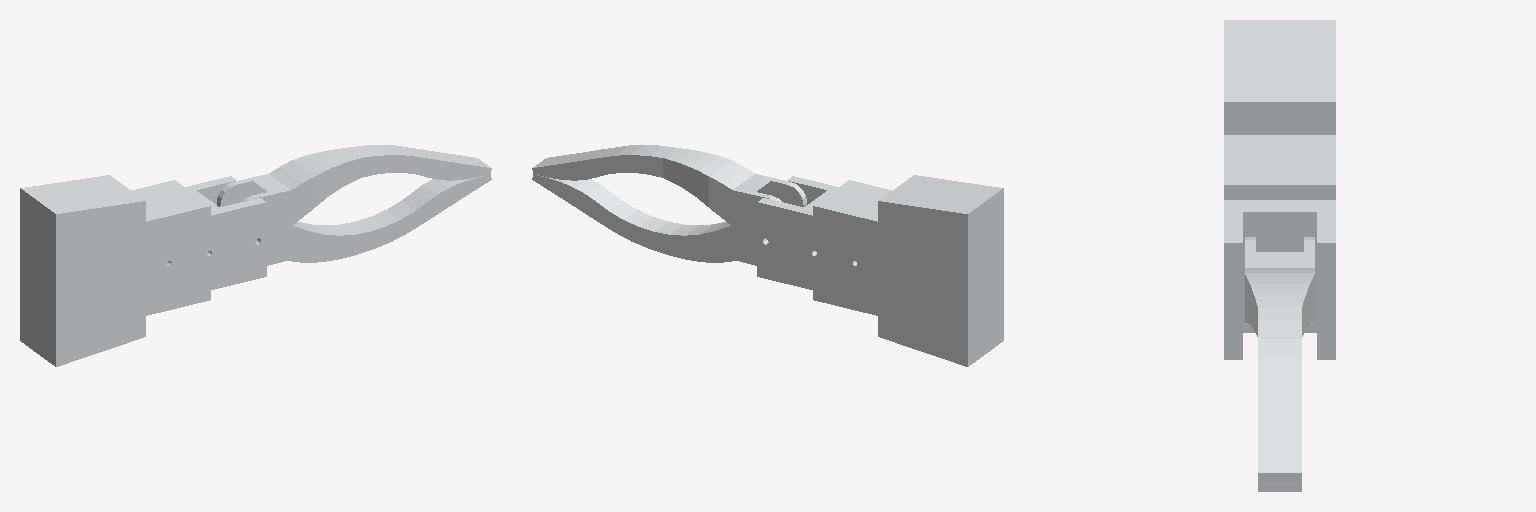
The robot description file, URDF, robot "gripah":
<?xml version="1.0" encoding="utf-8"?>
<!-- =================================================================================== -->
<!-- |    This document was autogenerated by xacro from gripah.urdf.xacro              | -->
<!-- |    EDITING THIS FILE BY HAND IS NOT RECOMMENDED                                 | -->
<!-- =================================================================================== -->
<robot name="gripah">
  <material name="gray">
    <color rgba="0.89804 0.91765 0.92941 1"/>
  </material>
  <link name="gripah_base">
    <inertial>
      <origin rpy="0 0 0" xyz="-0.020421 1.7659E-18 6.5869E-19"/>
      <mass value="0.18"/>
      <inertia ixx="1.0" ixy="0.0" ixz="0.0" iyy="1.0" iyz="0.0" izz="1.0"/>
    </inertial>
    <visual>
      <origin rpy="0 0 0" xyz="0 0 0"/>
      <geometry>
        <mesh filename="meshes/wrist.STL"/>
      </geometry>
      <material name="gray"/>
    </visual>
    <collision>
      <origin rpy="0 0 0" xyz="0 0 0"/>
      <geometry>
        <mesh filename="meshes/wrist.STL"/>
      </geometry>
    </collision>
  </link>
  <link name="wide_finger_link">
    <inertial>
      <origin rpy="0 0 0" xyz="0.056976 0.015337 -2.3122E-09"/>
      <mass value="0.0167"/>
      <inertia ixx="1.0" ixy="-0.01" ixz="0.0" iyy="1.0" iyz="0.0" izz="1.0"/>
    </inertial>
    <visual>
      <origin rpy="0 0 0" xyz="0 0 0"/>
      <geometry>
        <mesh filename="meshes/wide_finger.STL"/>
      </geometry>
      <material name="gray"/>
    </visual>
    <collision>
      <origin rpy="0 0 0" xyz="0 0 0"/>
      <geometry>
        <mesh filename="meshes/wide_finger.STL"/>
      </geometry>
    </collision>
  </link>
  <joint name="wide_finger_joint" type="revolute">
    <origin rpy="1.5708 0.013333 -8.164E-19" xyz="0.055 0 0"/>
    <parent link="gripah_base"/>
    <child link="wide_finger_link"/>
    <axis xyz="0 0 1"/>
    <limit effort="6.6" lower="-1.0472" upper="1.0472" velocity="8.0"/>
  </joint>
  <link name="narrow_finger_link">
    <inertial>
      <origin rpy="0 0 0" xyz="0.052556 0.013896 2.3305E-07"/>
      <mass value="0.016641"/>
      <inertia ixx="1.0" ixy="-0.03" ixz="0.0" iyy="1.0" iyz="0.0" izz="1.0"/>
    </inertial>
    <visual>
      <origin rpy="0 0 0" xyz="0 0 0"/>
      <geometry>
        <mesh filename="meshes/narrow_finger.STL"/>
      </geometry>
      <material name="gray"/>
    </visual>
    <collision>
      <origin rpy="0 0 0" xyz="0 0 0"/>
      <geometry>
        <mesh filename="meshes/narrow_finger.STL"/>
      </geometry>
    </collision>
  </link>
  <joint name="narrow_finger_joint" type="revolute">
    <axis xyz="0 0 -1"/>
    <origin rpy="1.5708 0.013333 8.164E-19" xyz="0.055 0 0"/>
    <parent link="gripah_base"/>
    <child link="narrow_finger_link"/>
    <limit effort="6.6" lower="-1.0472" upper="1.0472" velocity="8.0"/>
  </joint>
</robot>

--- Render facts (derived) ---
The picture shows the robot from 3 angles, left to right: view 1: azimuth 30°, elevation 25°; view 2: azimuth 150°, elevation 25°; view 3: azimuth 270°, elevation 25°; orthographic projection.
Robot: gripah — 3 links, 2 joints (2 revolute); root link gripah_base; default pose: every joint at zero.
Links seen in each view (by area): view 1: gripah_base, wide_finger_link, narrow_finger_link; view 2: gripah_base, wide_finger_link, narrow_finger_link; view 3: gripah_base, wide_finger_link.
Link boxes in pixels (left/top/right/bottom): gripah_base: left=20, top=175, right=266, bottom=366; wide_finger_link: left=217, top=145, right=491, bottom=240; narrow_finger_link: left=267, top=174, right=491, bottom=265; gripah_base: left=757, top=175, right=1003, bottom=366; wide_finger_link: left=532, top=145, right=806, bottom=240; narrow_finger_link: left=532, top=174, right=756, bottom=265; gripah_base: left=1224, top=20, right=1335, bottom=359; wide_finger_link: left=1245, top=237, right=1314, bottom=481.
Bounding box of the posed robot: 0.2746 × 0.038 × 0.09 m (x, y, z).
3 mesh visuals loaded from 3 distinct referenced files (3 binary STL).
